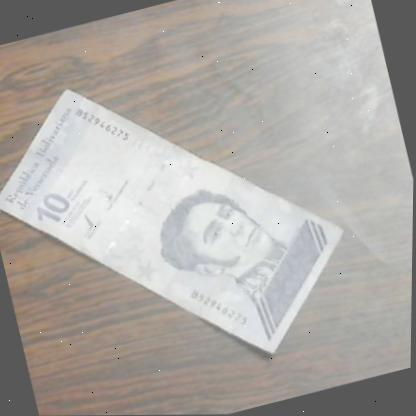ten-front-vef: (0, 28, 374, 415)
